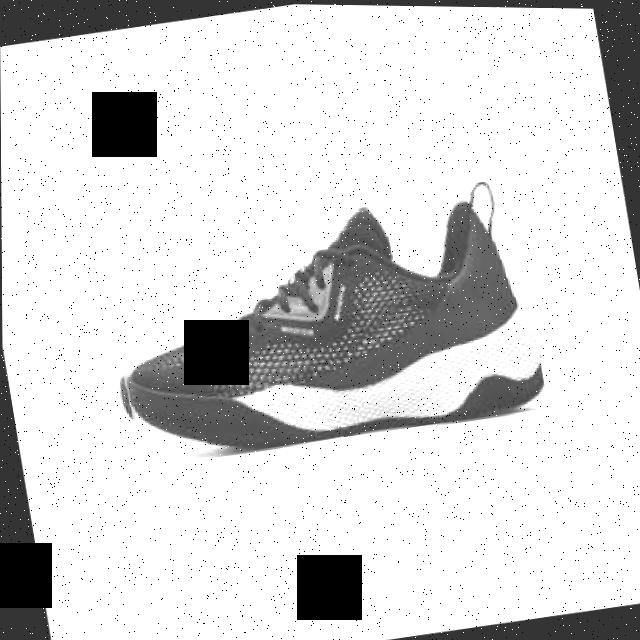shoe: (95, 180, 548, 472)
